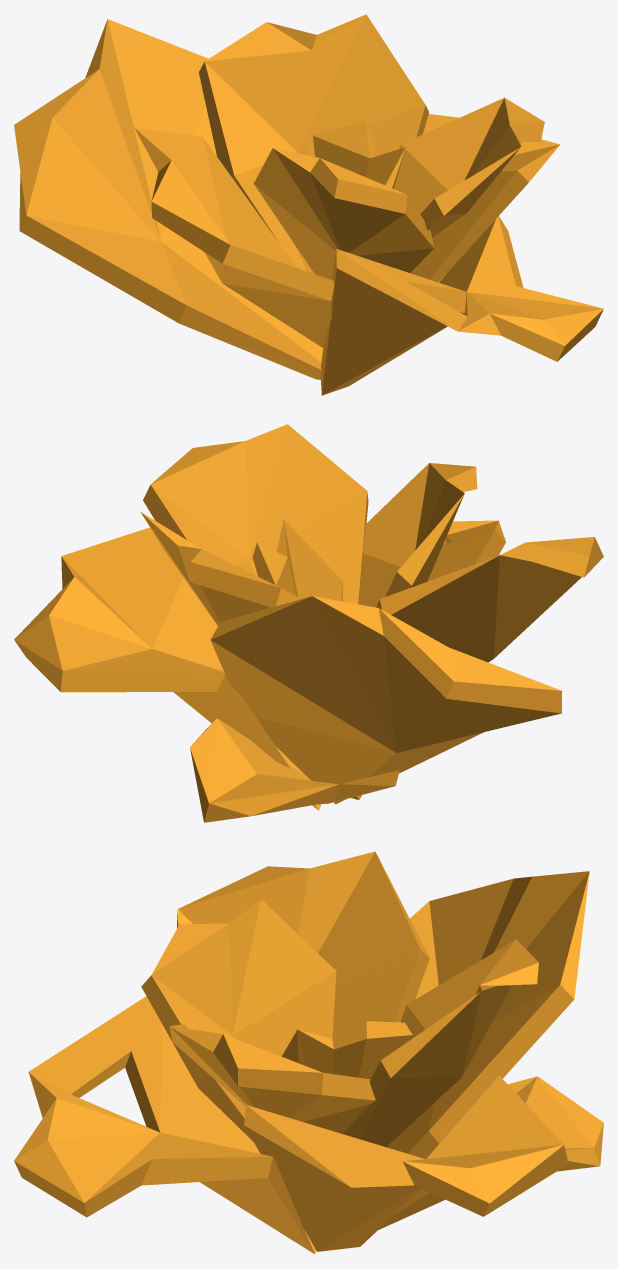
The model's file is SM_Salad_Rotten_A.fbx.
3 views of the same model, one above another, from view 1: azimuth 30°, elevation 25°; view 2: azimuth 150°, elevation 25°; view 3: azimuth 270°, elevation 25° (orthographic). The views are drawn at different scales.
Visible parts, largest first — view 1: salad-rotten-a; view 2: salad-rotten-a; view 3: salad-rotten-a.
Part boxes in pixels (left/top/right/bottom): salad-rotten-a: left=14, top=14, right=603, bottom=395; salad-rotten-a: left=14, top=424, right=603, bottom=822; salad-rotten-a: left=14, top=851, right=603, bottom=1254.
Size of the model in its own units: 0.4864 by 0.2813 by 0.4615.
